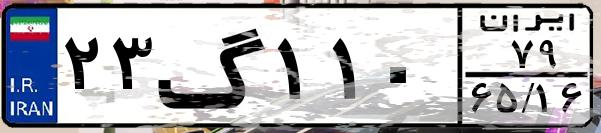0: (385, 28, 445, 110)
1: (270, 28, 330, 110), (330, 28, 385, 110), (535, 70, 560, 125)
2: (57, 26, 110, 100)
3: (110, 28, 156, 98)
5: (495, 70, 520, 125)
6: (560, 70, 590, 125), (470, 70, 495, 125)
7: (508, 27, 537, 80)
9: (537, 27, 568, 80)
گ: (156, 12, 270, 120)
